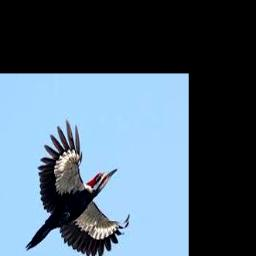Woodpecker: (26, 119, 130, 256)
